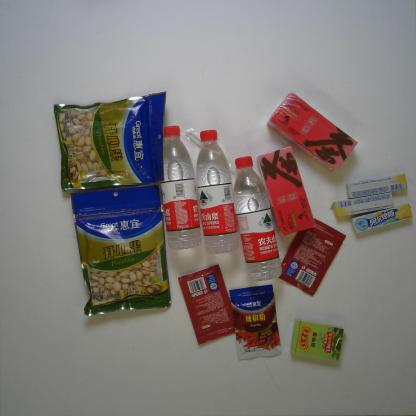Candy: (289, 319, 343, 362), (352, 204, 414, 235), (344, 172, 408, 200), (330, 192, 394, 218)
Dried Fruit: (69, 184, 172, 316), (52, 90, 167, 192)
Drink: (232, 156, 282, 282), (195, 129, 239, 255), (160, 125, 202, 252)
Instant Drink: (266, 92, 358, 171), (255, 146, 318, 236)
Seasoner: (279, 218, 348, 296), (176, 264, 238, 346), (229, 285, 281, 360)
